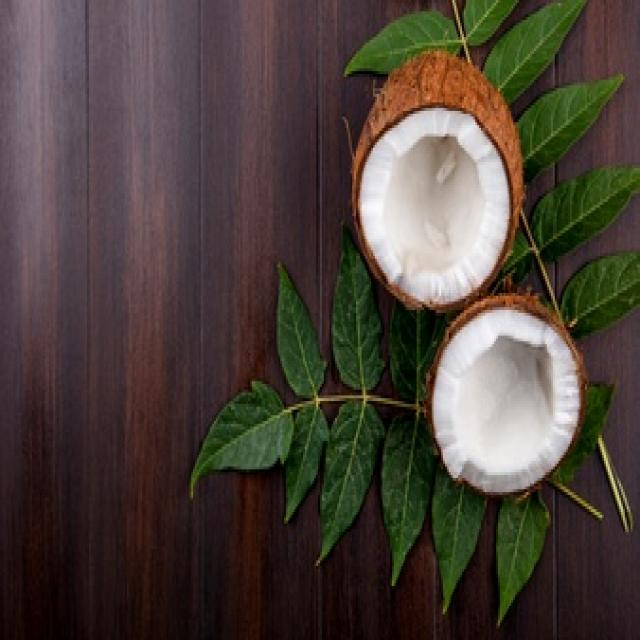coconut: (350, 46, 521, 307), (428, 298, 585, 501)
